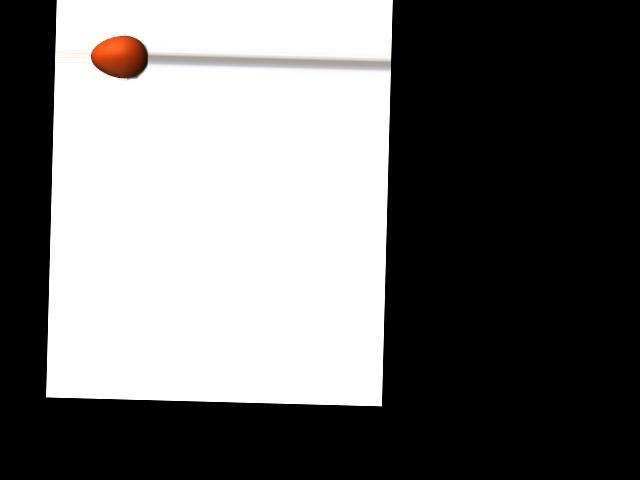egg: (91, 35, 148, 79)
